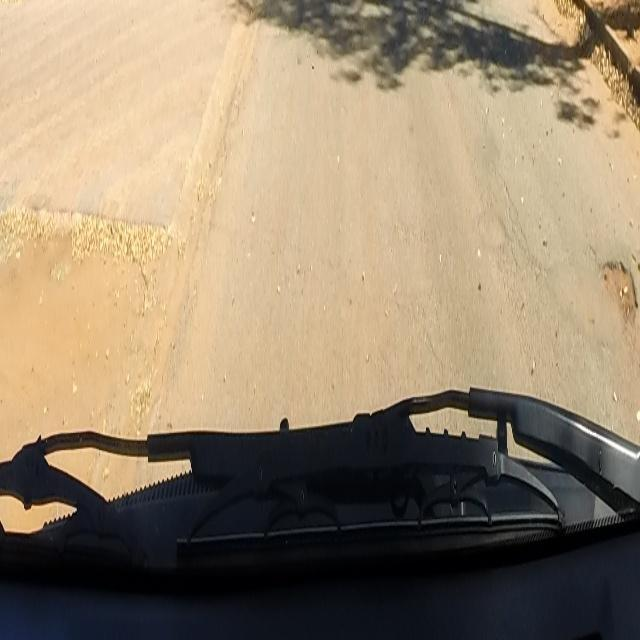pothole: (603, 256, 639, 333)
